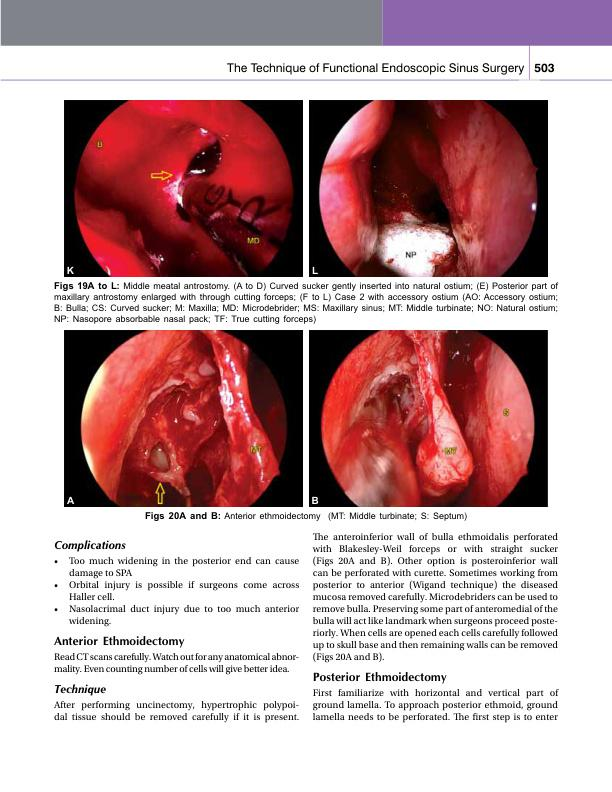caption: (52, 280, 560, 325), (143, 510, 468, 522), (66, 266, 76, 275), (311, 265, 319, 276), (65, 497, 76, 505), (311, 495, 319, 505)
header: (225, 61, 525, 76)
image: (308, 329, 549, 508), (308, 99, 548, 278), (64, 99, 304, 277), (64, 329, 303, 507)
section-heading: (312, 670, 448, 685), (53, 635, 186, 648)
sub-section-heading: (53, 539, 127, 552), (54, 682, 107, 697)
text: (311, 530, 559, 663), (52, 554, 300, 628), (312, 687, 560, 725), (53, 699, 300, 724), (53, 651, 300, 675)
